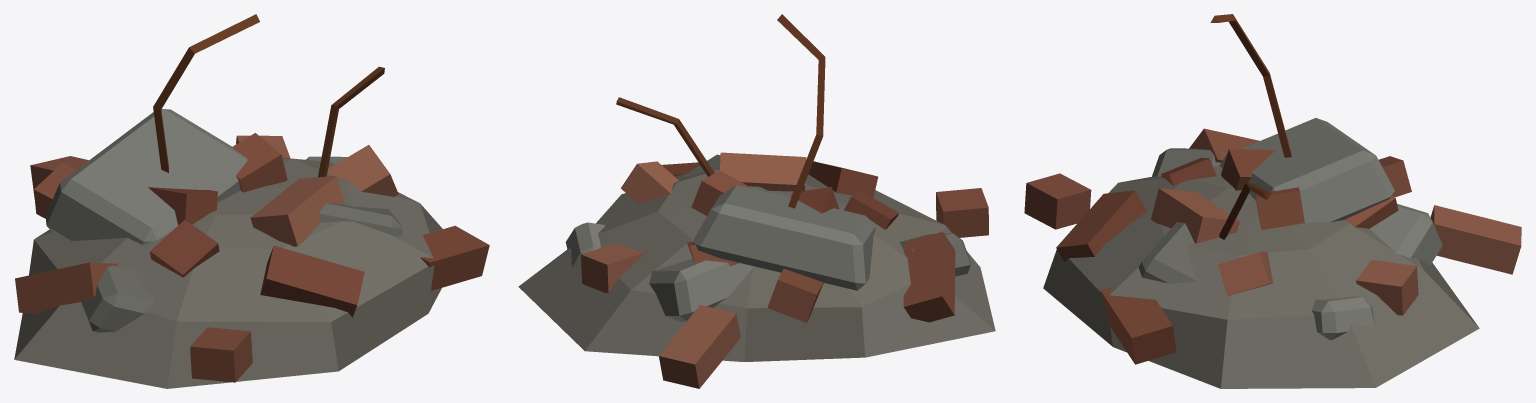
File: entulho.glb
The picture shows the model from 3 angles, left to right: view 1: azimuth 30°, elevation 25°; view 2: azimuth 150°, elevation 25°; view 3: azimuth 270°, elevation 25°; orthographic projection. The views are drawn at different scales.
Parts seen in each view (by area): view 1: entulho.001; view 2: entulho.001; view 3: entulho.001.
Boxes of the visible parts, x1=… form: entulho.001: x1=14, y1=14, x2=489, y2=388; entulho.001: x1=518, y1=14, x2=995, y2=388; entulho.001: x1=1024, y1=14, x2=1521, y2=388.
Bounding box in the file's own units: 1.12 × 0.6901 × 1.13.
